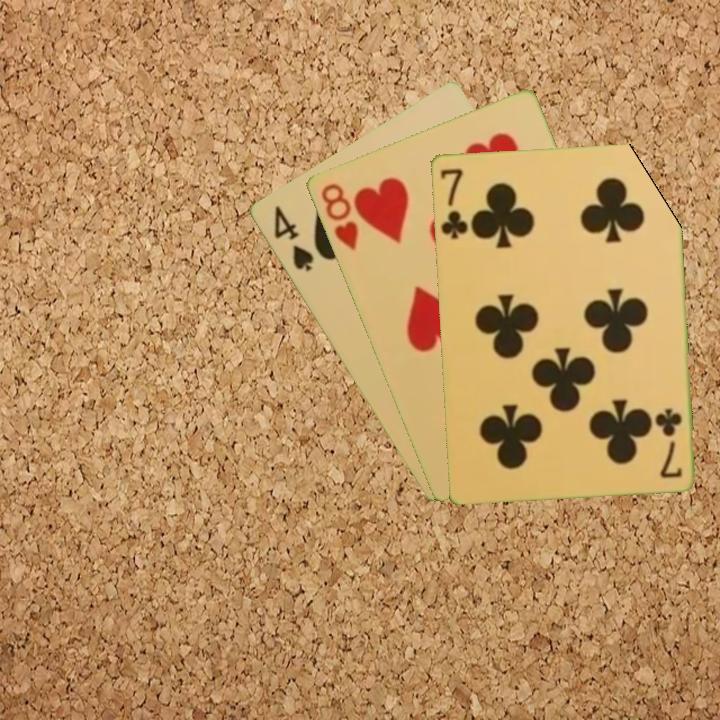4s: (269, 201, 316, 275)
7c: (436, 164, 471, 241), (653, 404, 684, 481)
8h: (317, 179, 361, 254)
